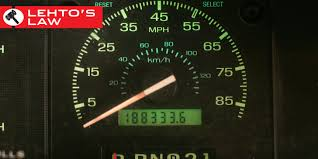Digital_Meter: (117, 107, 207, 127)
